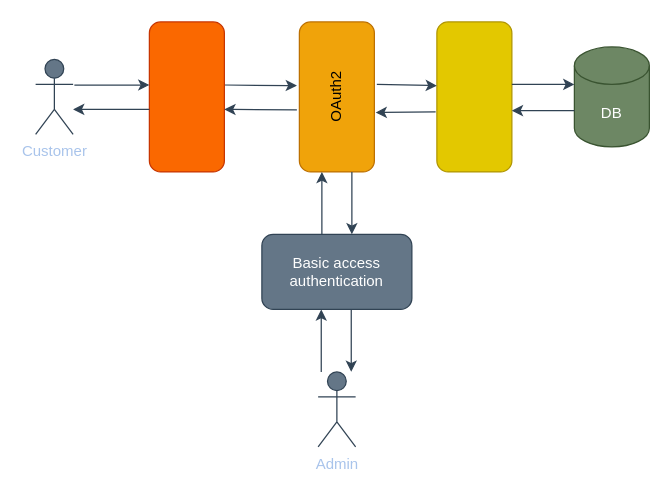
Image size: 671x495. Some labels were removed from this diagram. The centre of each missing label's shape, as x and y in pixels:
"Audiences" belongs at [186,96].
"Hash" belongs at [474,96].
